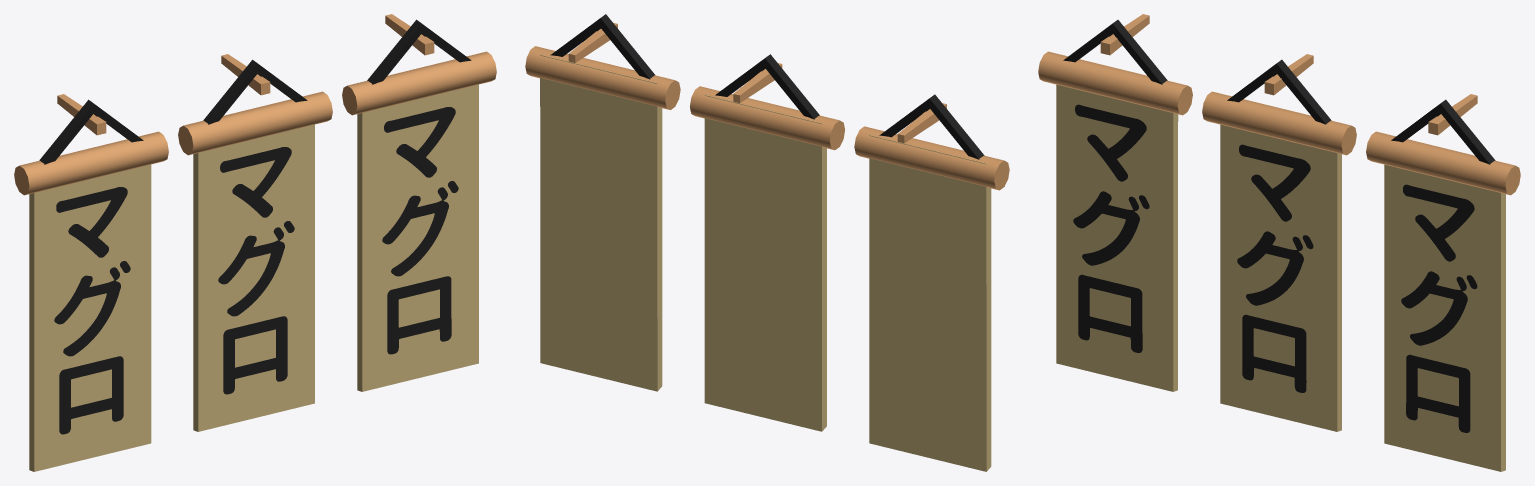
The model's file is Decoration_Sign_2.fbx.
The picture shows the model from 3 angles, left to right: view 1: azimuth 30°, elevation 25°; view 2: azimuth 150°, elevation 25°; view 3: azimuth 330°, elevation 25°; orthographic projection.
Visible parts, largest first — view 1: Decoration_Sign_2; view 2: Decoration_Sign_2; view 3: Decoration_Sign_2.
Boxes of the visible parts, x1,y1,x2,y2 form: Decoration_Sign_2: (14, 14, 496, 471); Decoration_Sign_2: (525, 14, 1009, 471); Decoration_Sign_2: (1038, 14, 1520, 471).
Bounding box in the file's own units: 399 × 292 × 60.67.
